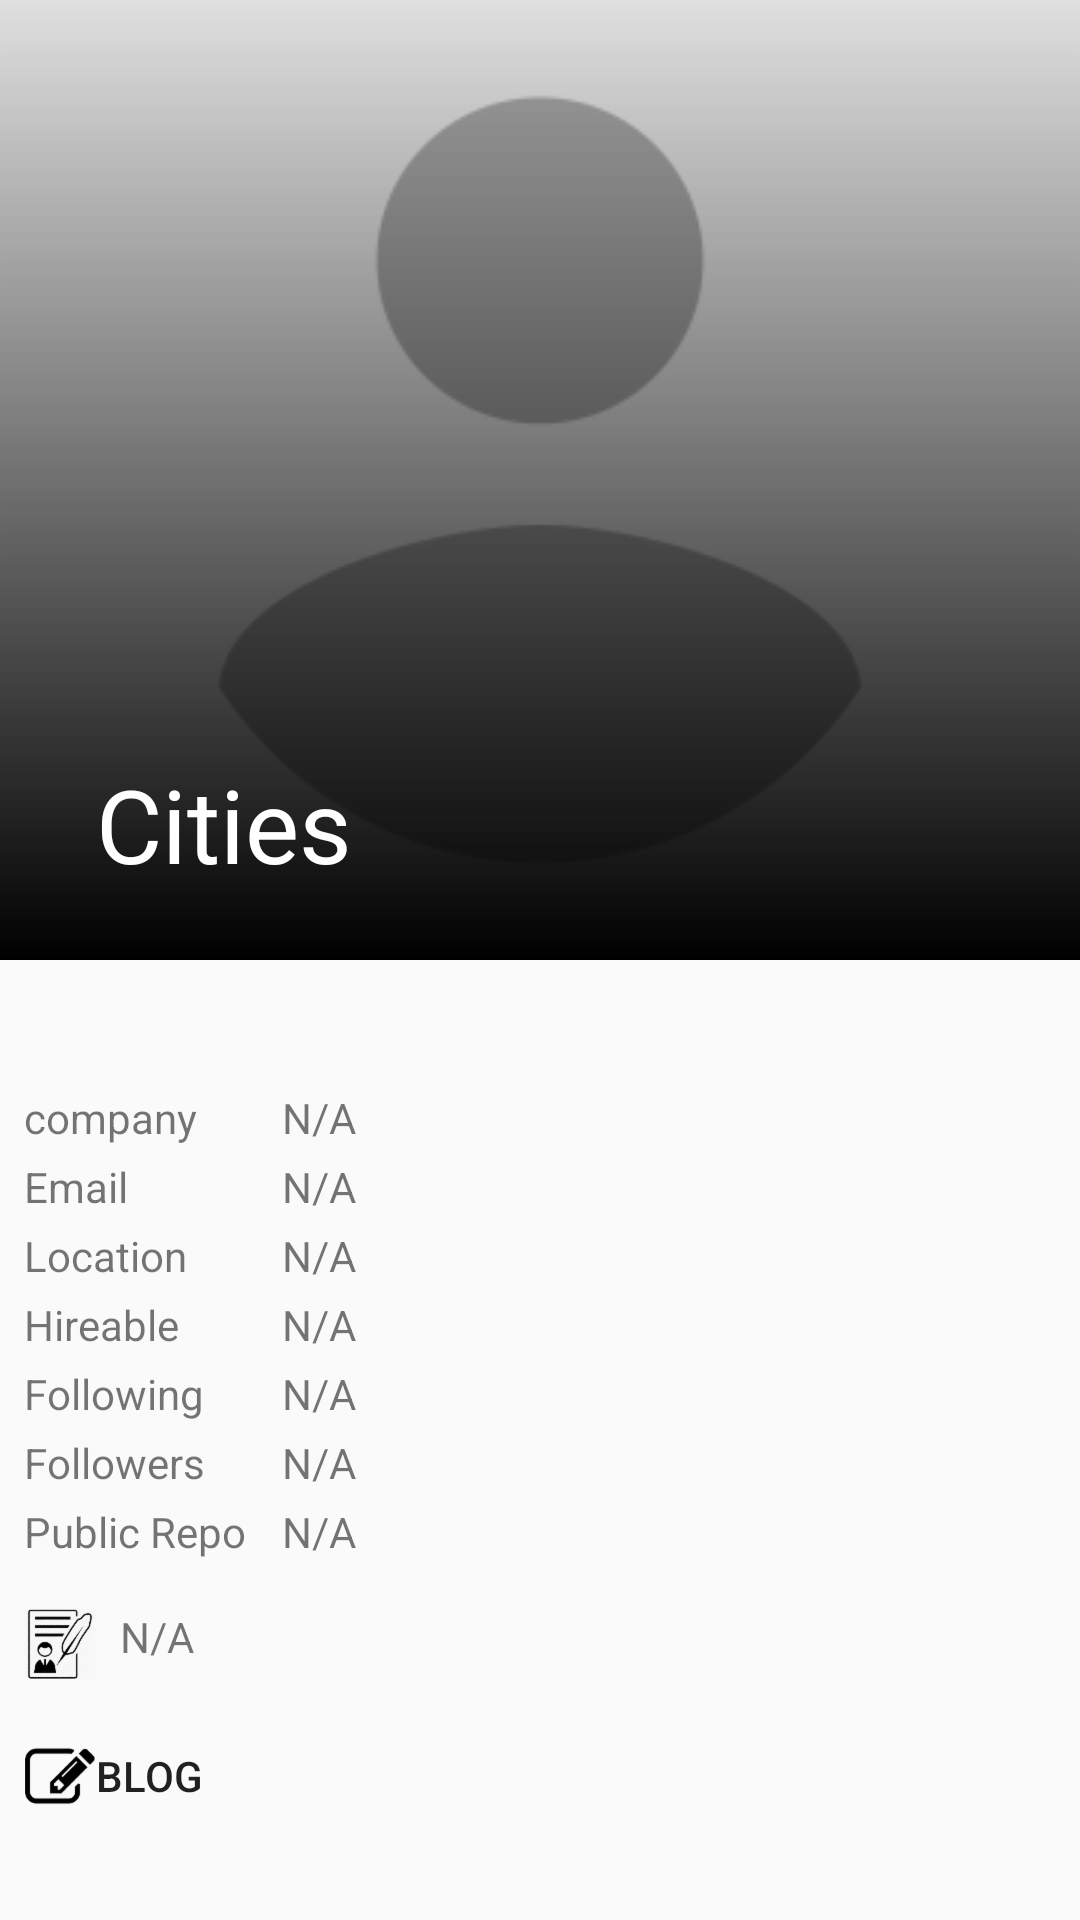

Point at icon controls on the screen. Image size 1080px x 1920px, points as (x,y).
biography: (60,1644)
